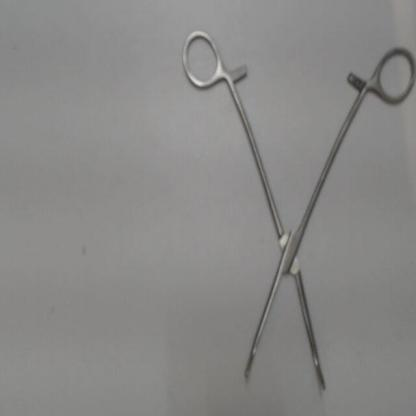Lahey Forceps: (174, 22, 415, 397)
